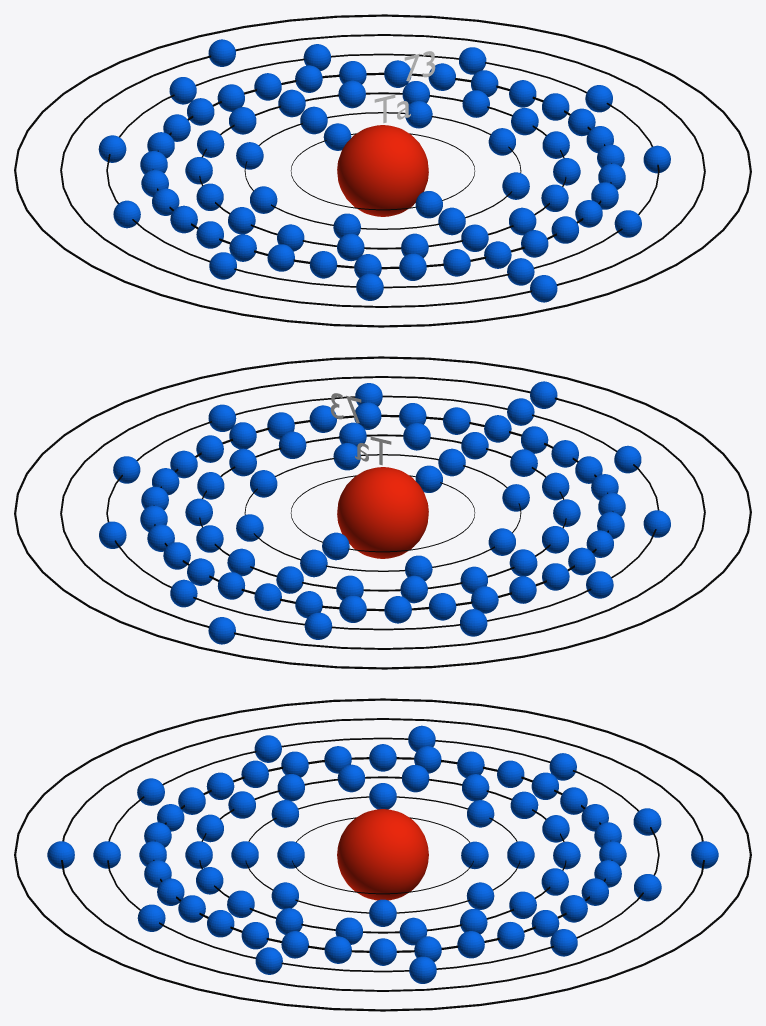
3 views of the same model, one above another, from view 1: azimuth 30°, elevation 25°; view 2: azimuth 150°, elevation 25°; view 3: azimuth 270°, elevation 25° (orthographic).
Visible parts, largest first — view 1: Ta4, Ta3, Ta5, Proton, Ta2, n7, n6, n5, Ta6, Ta1, n3, n4 (+1 smaller); view 2: Ta4, Ta3, Ta5, Proton, Ta2, n7, n6, n5, Ta6, Ta1, n3, n4 (+1 smaller); view 3: Ta4, Ta3, Ta5, Proton, Ta2, n7, n6, n5, Ta1, Ta6, n3, n4 (+2 smaller).
Boxes of the visible parts, x1=… form: Ta4: x1=140, y1=60, x2=625, y2=280; Ta3: x1=185, y1=80, x2=580, y2=261; Ta5: x1=98, y1=44, x2=670, y2=300; Proton: x1=337, y1=125, x2=428, y2=216; Ta2: x1=236, y1=101, x2=529, y2=238; n7: x1=14, y1=14, x2=751, y2=327; n6: x1=60, y1=34, x2=705, y2=307; n5: x1=106, y1=53, x2=659, y2=288; Ta6: x1=208, y1=39, x2=557, y2=302; Ta1: x1=323, y1=123, x2=442, y2=218; n3: x1=199, y1=92, x2=566, y2=249; n4: x1=152, y1=72, x2=611, y2=269; Ta4: x1=140, y1=402, x2=625, y2=623; Ta3: x1=185, y1=422, x2=580, y2=603; Ta5: x1=99, y1=383, x2=670, y2=639; Proton: x1=337, y1=467, x2=428, y2=558; Ta2: x1=236, y1=443, x2=529, y2=580; n7: x1=14, y1=356, x2=751, y2=669; n6: x1=60, y1=376, x2=705, y2=649; n5: x1=106, y1=395, x2=659, y2=630; Ta6: x1=208, y1=381, x2=557, y2=644; Ta1: x1=322, y1=465, x2=442, y2=560; n3: x1=199, y1=434, x2=566, y2=591; n4: x1=153, y1=414, x2=613, y2=611; Ta4: x1=139, y1=744, x2=626, y2=965; Ta3: x1=185, y1=764, x2=580, y2=945; Ta5: x1=93, y1=725, x2=661, y2=983; Proton: x1=337, y1=809, x2=428, y2=900; Ta2: x1=231, y1=783, x2=534, y2=926; n7: x1=14, y1=698, x2=751, y2=1011; n6: x1=61, y1=718, x2=704, y2=991; n5: x1=107, y1=737, x2=659, y2=972; Ta1: x1=277, y1=841, x2=488, y2=869; Ta6: x1=47, y1=841, x2=718, y2=868; n3: x1=199, y1=776, x2=566, y2=933; n4: x1=153, y1=757, x2=612, y2=952.
Size of the model in its own units: 802 by 180 by 802.
